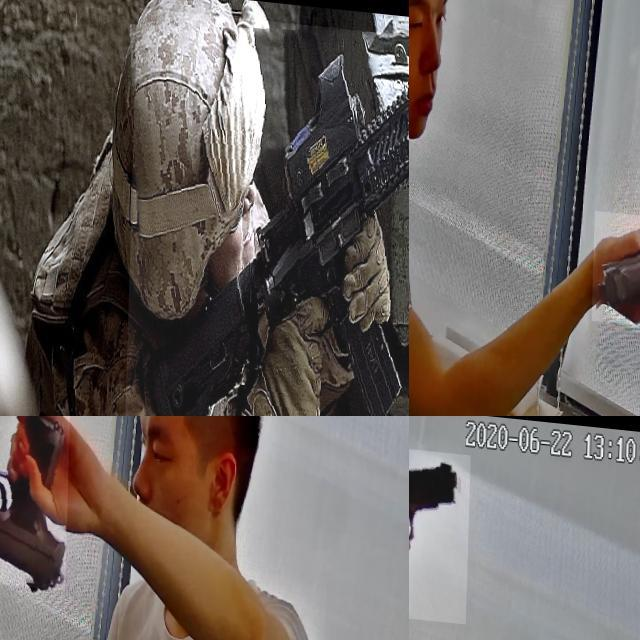gun-knife-thesis - v11 Yolov5 augmented: (126, 0, 409, 416), (409, 433, 485, 614), (0, 416, 71, 585), (594, 203, 640, 326)
